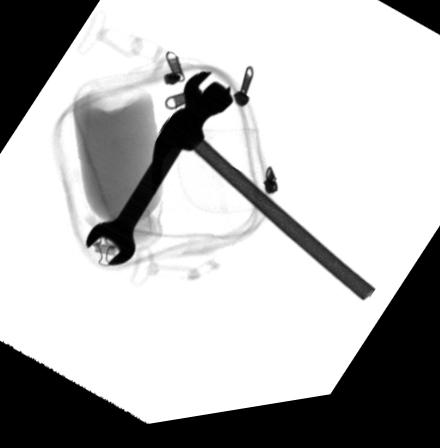Hammer: (151, 84, 377, 313)
Wrench: (84, 76, 230, 273)
